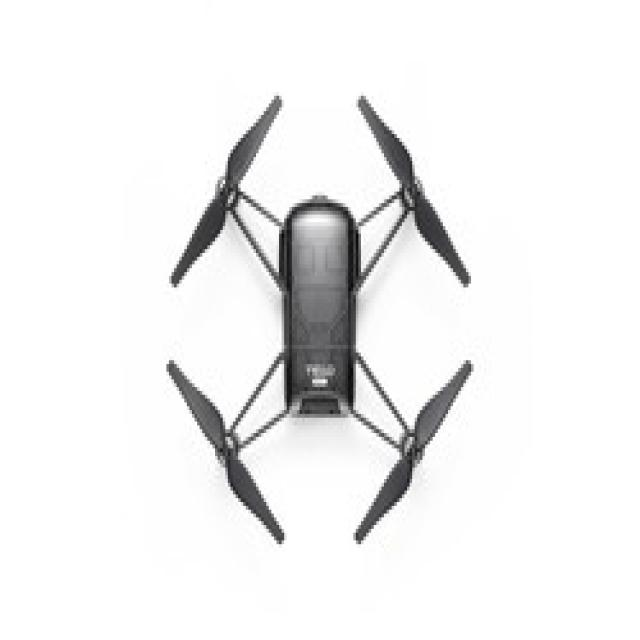drone: (141, 92, 499, 571)
